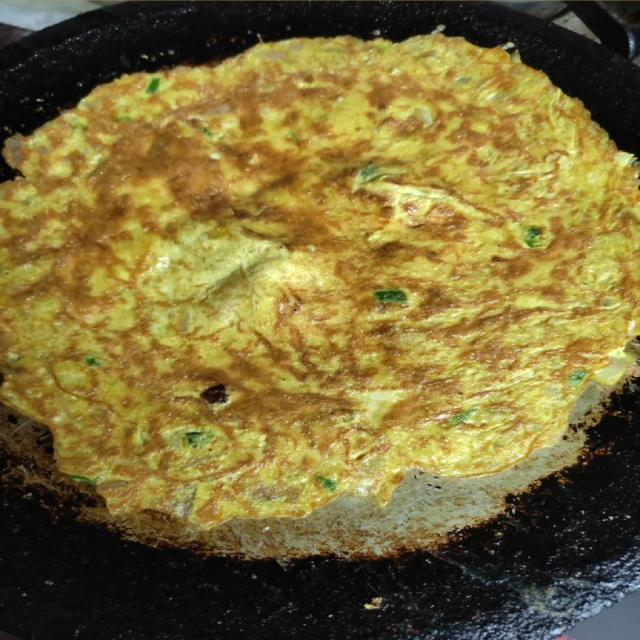omelette: (0, 34, 639, 529)
